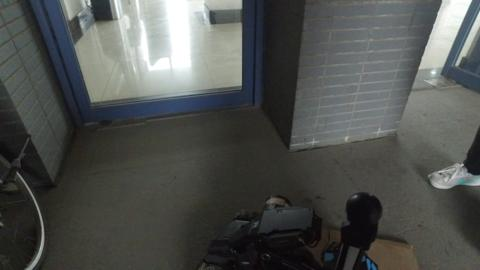chariot: (204, 187, 383, 269)
